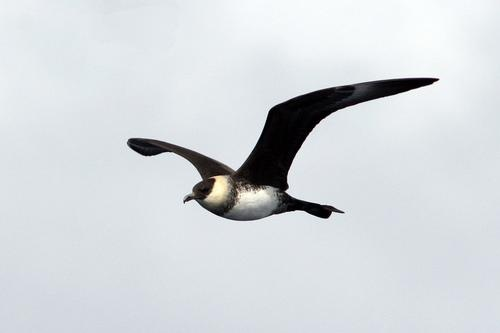bird: (124, 75, 439, 223)
